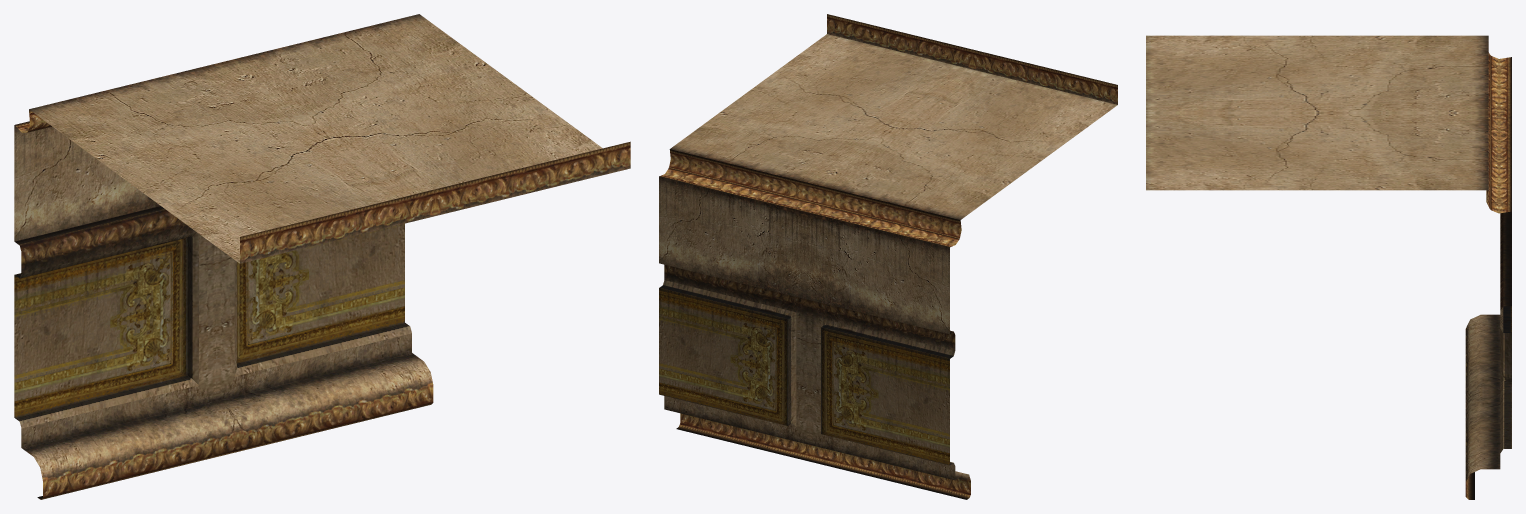
Rendered from concave_short.dae.
3 renders of one model, left to right at view 1: azimuth 30°, elevation 25°; view 2: azimuth 150°, elevation 25°; view 3: azimuth 270°, elevation 25°, orthographic. The views are drawn at different scales.
Visible parts, largest first — view 1: concave_short; view 2: concave_short; view 3: concave_short.
Part boxes in pixels (bbox=[...]): concave_short: bbox=[14, 14, 630, 499]; concave_short: bbox=[659, 14, 1117, 499]; concave_short: bbox=[1146, 35, 1511, 499].
Size of the model in its own units: 2 by 2 by 2.
Materials: 1 (1 with a texture image).
